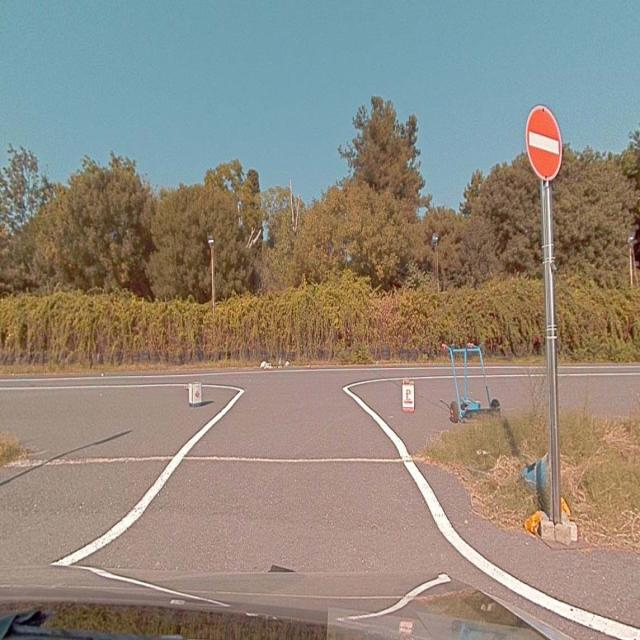girisyok: (525, 106, 562, 176)
